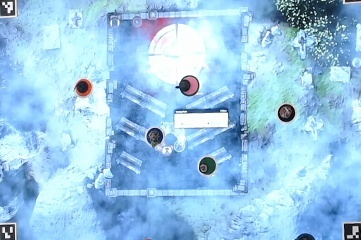black: (275, 103, 298, 126)
blue: (141, 126, 164, 149)
green: (194, 154, 218, 177)
orange: (70, 77, 93, 100)
pink_green: (178, 74, 201, 97)
